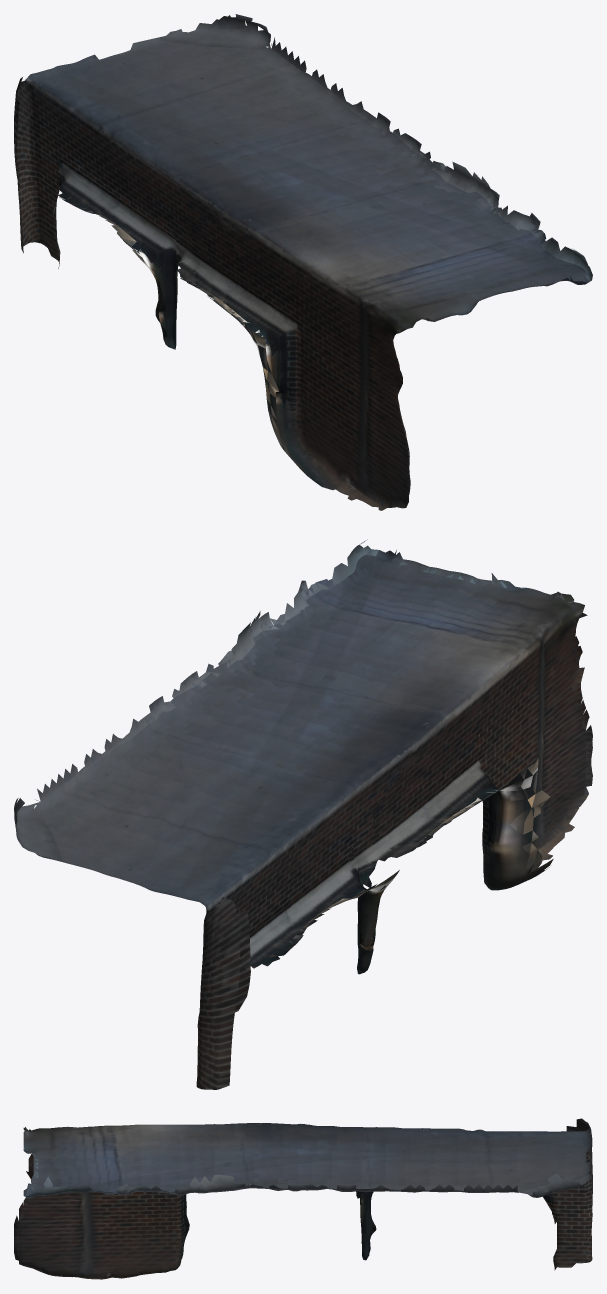
The model's file is Outside5.obj.
The picture shows the model from 3 angles, top to bottom: view 1: azimuth 30°, elevation 25°; view 2: azimuth 150°, elevation 25°; view 3: azimuth 270°, elevation 25°; orthographic projection. The views are drawn at different scales.
Size of the model in its own units: 3.5 by 3.07 by 9.07.
1 material, 1 textured.
